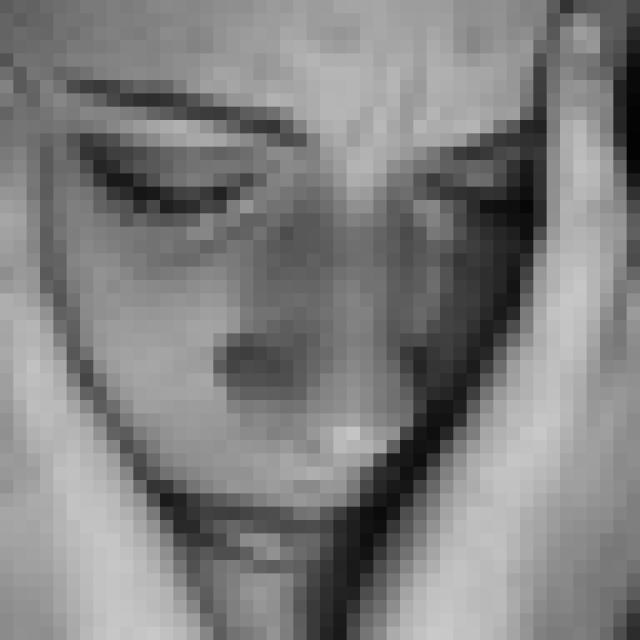sad: (38, 71, 544, 581)
